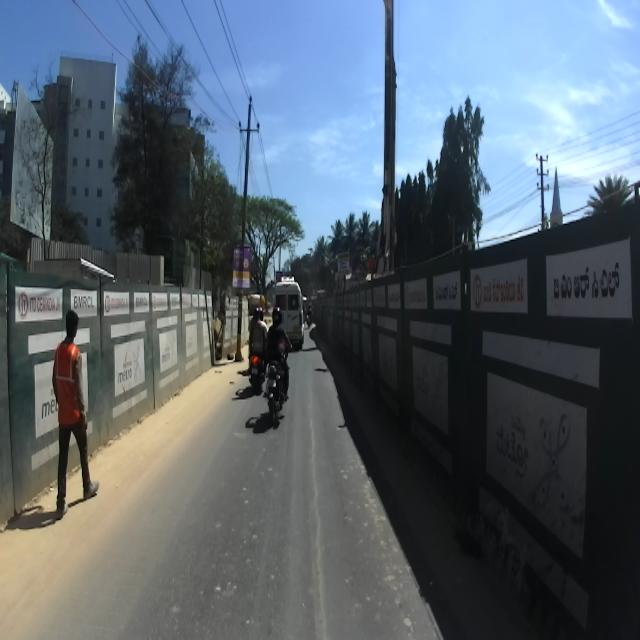electric pole ahead at: (230, 84, 263, 362)
motorcycle ahead at: (262, 363, 290, 422)
person ahead at: (52, 310, 98, 526)
